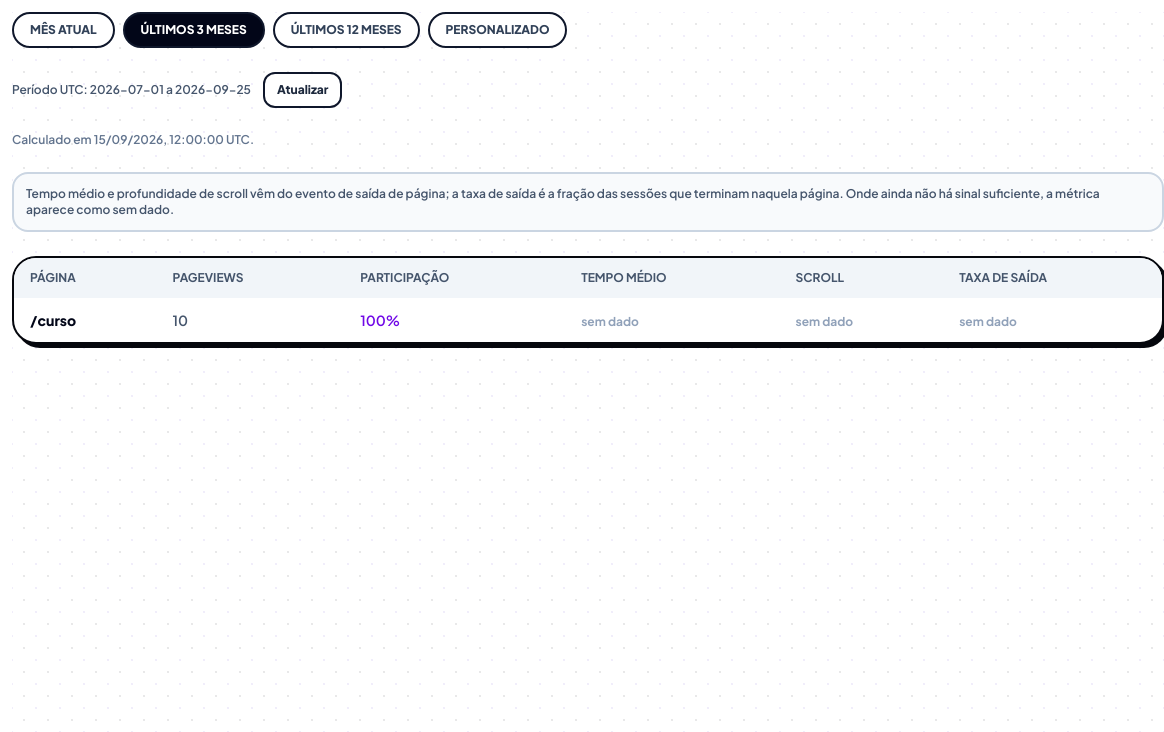
Test: Páginas recuperadas › timeout mostra erro e retry; falha de refresh preserva dados anteriores
Expected: the text "/curso" is shown, [14,298,157,342]
Step 1. Click the button "Atualizar" → (303,90), box [263,72,342,108]
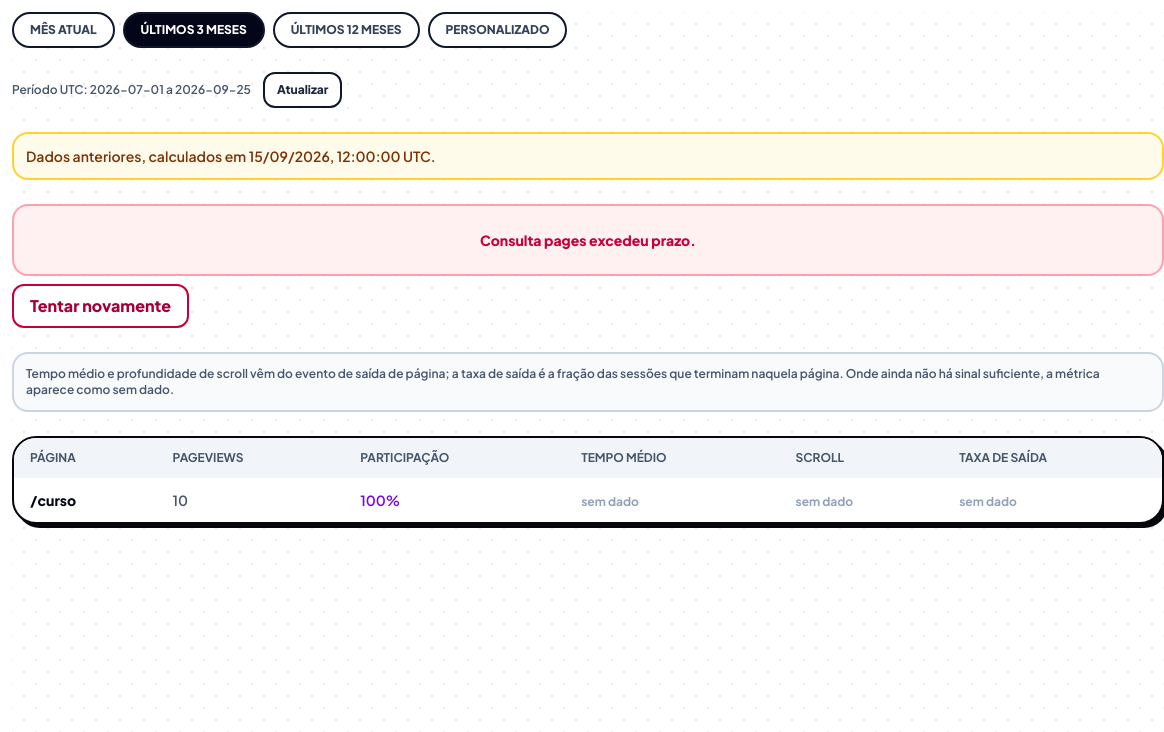
Expected: the text "/curso" is shown, [14,478,157,522]
Expected: the button "Tentar novamente" is shown
Expected: the text "Dados anteriores, calculados em 15/09/2026, 12:00:00 UTC." is shown, [12,132,1163,180]
Step 2. Click the button "Tentar novamente" → (101,306), box [12,284,189,328]
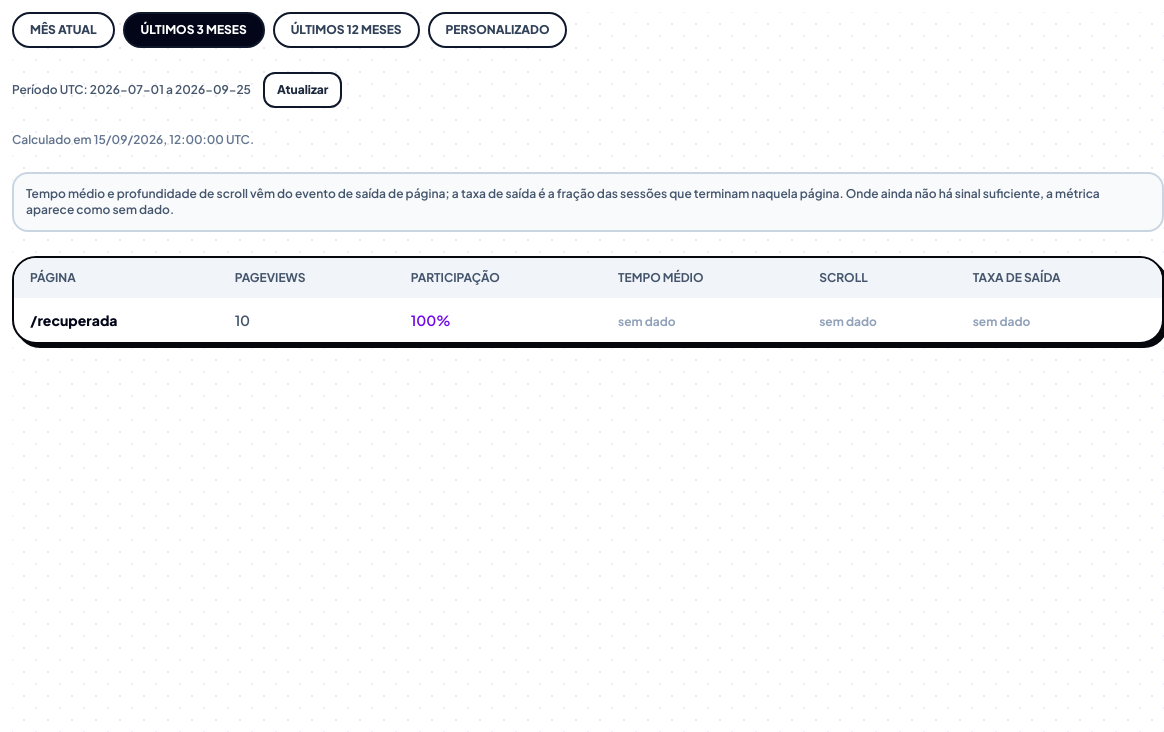
Expected: the text "/recuperada" is shown, [14,298,219,342]
Expected: the text "Dados anteriores" is gone
